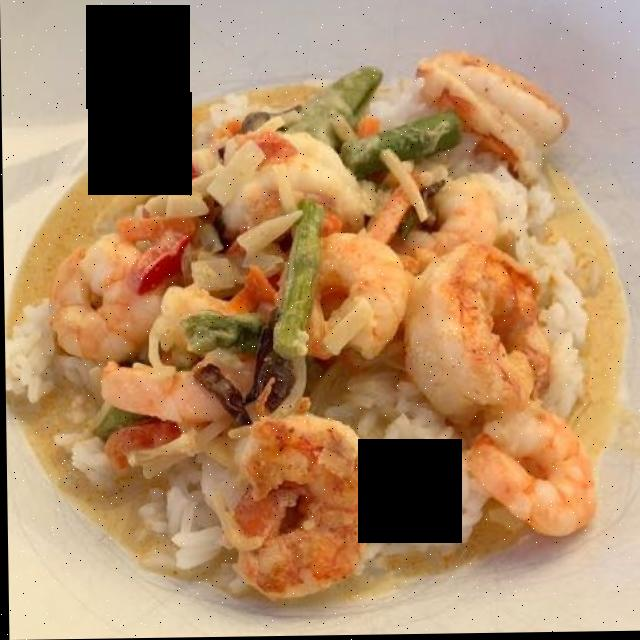curry-vegetarian: (14, 63, 623, 564)
rice: (17, 156, 587, 583)
shrimp-prawn-large: (58, 49, 587, 609)
